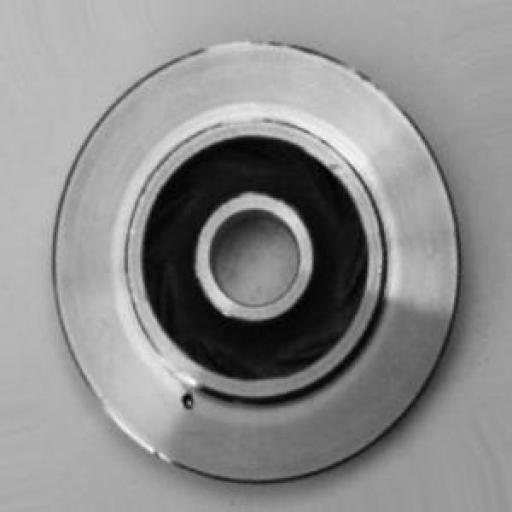defect: (154, 374, 220, 438)
